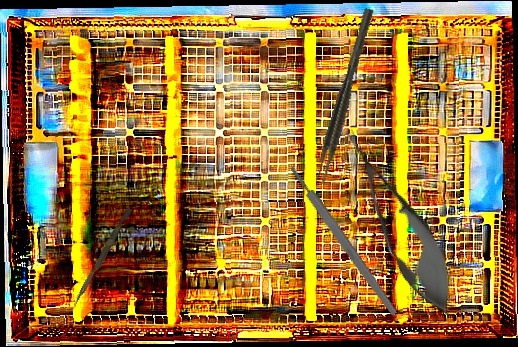Micro Scissor: (325, 118, 473, 327)
Pusher: (72, 206, 133, 308)
Scalpel Handle: (287, 164, 400, 317)
Tissue Forceps: (311, 7, 380, 186)
